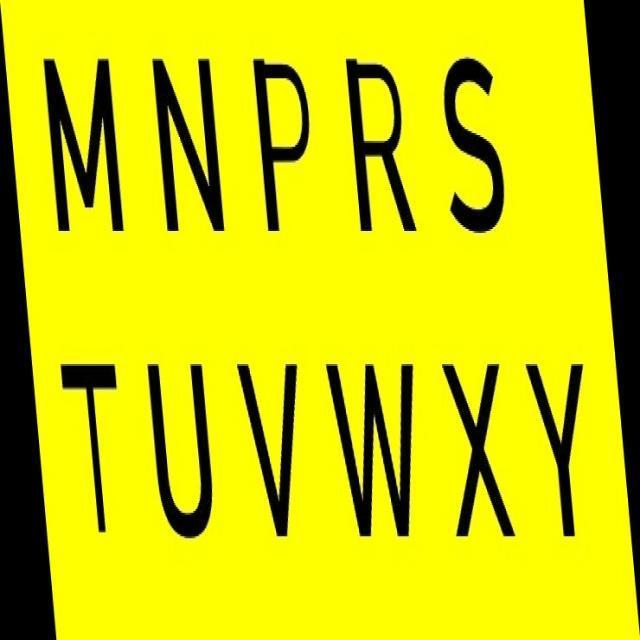M: (37, 48, 128, 236)
N: (140, 51, 230, 238)
P: (242, 52, 322, 240)
R: (341, 51, 422, 242)
S: (435, 53, 511, 243)
T: (55, 353, 131, 542)
U: (141, 356, 215, 544)
V: (232, 355, 302, 542)
W: (321, 356, 419, 540), (438, 357, 518, 542)
Y: (526, 358, 587, 546)
